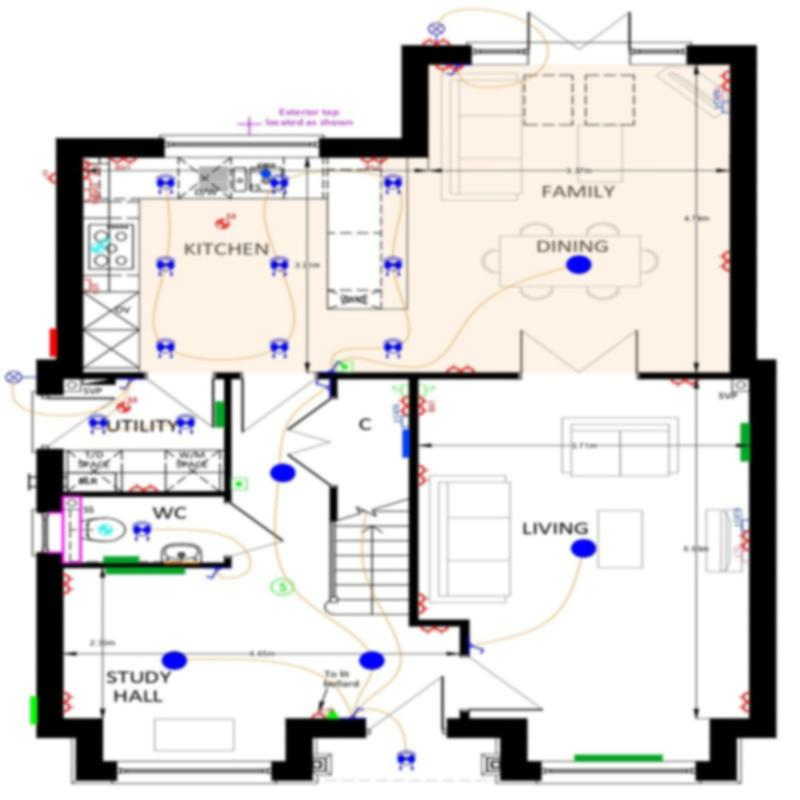BT Entry Point: (326, 709, 337, 718)
Cat 6 Data Socket: (732, 507, 749, 531), (713, 91, 730, 113), (392, 404, 408, 427)
Ceiling Mounted Continuous Extract FanWith Boost Mode Activated By Light Switch: (99, 524, 112, 534)
Ceiling Mounted Continuous Extract FanWith Local Boost Switch: (116, 397, 137, 413), (216, 213, 236, 229)
Co-Ax TV Socket: (732, 545, 749, 562), (714, 83, 730, 101)
Consumer Unit: (83, 378, 116, 386)
Double Socket: (717, 251, 730, 272), (420, 626, 450, 635), (129, 483, 159, 492), (738, 691, 749, 714), (63, 573, 75, 594), (436, 65, 463, 74), (418, 592, 429, 614), (63, 691, 74, 713), (718, 70, 730, 90), (446, 364, 475, 372), (671, 379, 699, 387), (418, 465, 429, 485), (423, 37, 450, 45), (739, 531, 749, 551), (399, 397, 409, 415)
Electric Meter Box: (50, 328, 57, 357)
External Wall Light: (6, 370, 36, 384), (428, 22, 445, 46)
Fused spur: (312, 708, 333, 719)
Gas Meter Box: (30, 695, 38, 724)
Grid Switch: (83, 178, 100, 195)
Hob Switch: (84, 190, 100, 204)
Light Switch: (119, 378, 134, 390), (206, 568, 222, 579), (315, 379, 329, 391), (349, 707, 364, 718), (329, 362, 343, 372), (446, 66, 460, 76)
Low Energy Downlighter: (155, 173, 175, 195), (383, 256, 403, 278), (269, 338, 289, 359), (156, 338, 176, 359), (132, 521, 152, 542), (383, 174, 403, 194), (270, 174, 289, 195), (156, 256, 175, 277), (397, 750, 416, 771), (270, 256, 289, 276), (89, 414, 108, 434), (176, 414, 195, 434), (384, 339, 403, 359)
Low Energy Pendant Light: (359, 651, 385, 670), (571, 539, 596, 558), (162, 651, 187, 670), (566, 256, 592, 274), (270, 464, 296, 482)
Mains Wired Smoke Detector: (271, 577, 294, 595)
Outside Socket: (43, 170, 56, 183)
Outside Tap: (237, 117, 262, 136)
Oven Switch: (83, 279, 99, 294)
Programmable Room Thermostat: (231, 477, 247, 490), (336, 361, 353, 372)
Radiator: (574, 755, 663, 763), (106, 568, 184, 575), (741, 423, 750, 461), (214, 401, 225, 428), (103, 557, 139, 563)
Recirculating Extractor Fan: (92, 237, 111, 253)
Single Socket: (470, 642, 485, 656)
Telephone Socket: (392, 384, 409, 396), (419, 384, 434, 396)
USB Double Socket: (360, 157, 388, 170), (110, 157, 137, 170), (418, 397, 436, 416), (82, 159, 99, 178)
Underfloor Heating Manifold: (403, 430, 409, 458)
Water Entry Position: (260, 170, 271, 177)
